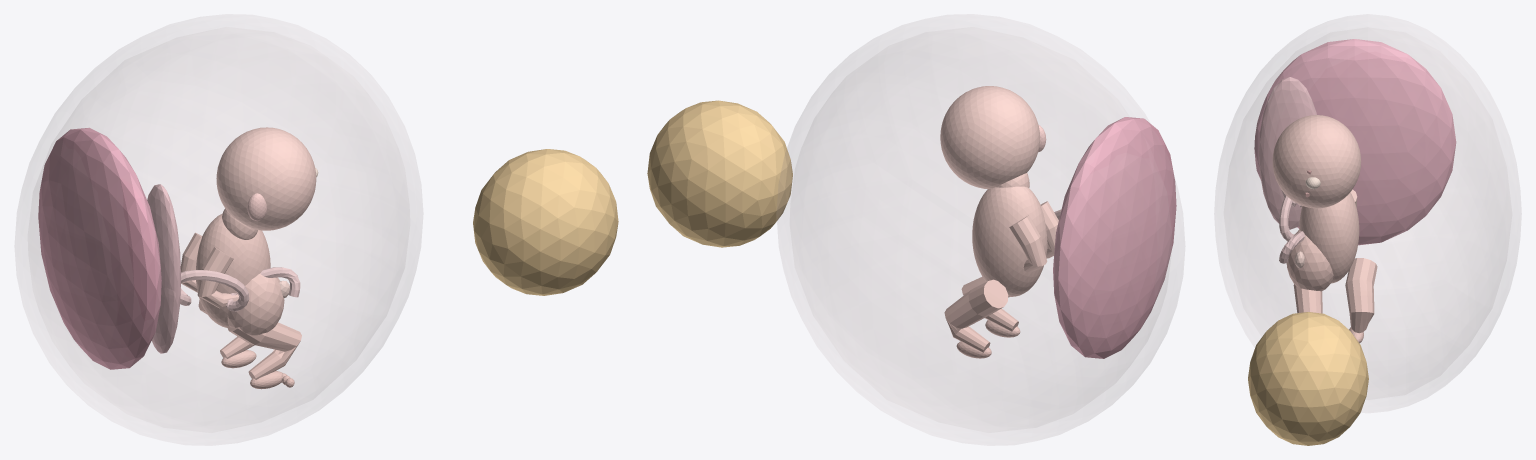
The model's file is hafta_23.glb.
3 views of the same model, side by side, from view 1: azimuth 30°, elevation 25°; view 2: azimuth 150°, elevation 25°; view 3: azimuth 270°, elevation 25° (orthographic). The views are drawn at different scales.
Visible parts, largest first — view 1: Gebelik_kesesi_dis_zar_25, Plasenta_gelisen_doku_27, Meyve_Greyfurt_29, Bas_1, Plasenta_yumusak_yuzey_28, Gogus_govde_2, Gobel_ve_karin_3, Bacak_on_18, Gobek_kordonu_ogretici_24, Kol_on_11, Kol_on_arka_9; view 2: Gebelik_kesesi_dis_zar_25, Plasenta_gelisen_doku_27, Meyve_Greyfurt_29, Bas_1, Gogus_govde_2, Bacak_arka_16, Kol_on_arka_9, Bacak_on_18, Kol_on_11; view 3: Gebelik_kesesi_dis_zar_25, Plasenta_gelisen_doku_27, Meyve_Greyfurt_29, Bas_1, Plasenta_yumusak_yuzey_28, Gogus_govde_2, Bacak_arka_16, Gobel_ve_karin_3, Gobek_kordonu_ogretici_24, Bacak_on_18.
Part boxes in pixels (x1,y1,x2,y2): Gebelik_kesesi_dis_zar_25: (15,14,422,445); Plasenta_gelisen_doku_27: (38,127,161,369); Meyve_Greyfurt_29: (473,149,618,295); Bas_1: (216,127,316,230); Plasenta_yumusak_yuzey_28: (147,184,181,353); Gogus_govde_2: (196,213,270,327); Gobel_ve_karin_3: (227,273,284,335); Bacak_on_18: (227,322,301,379); Gobek_kordonu_ogretici_24: (180,267,300,311); Kol_on_11: (197,247,238,308); Kol_on_arka_9: (180,232,202,292); Gebelik_kesesi_dis_zar_25: (777,14,1184,445); Plasenta_gelisen_doku_27: (1053,117,1176,358); Meyve_Greyfurt_29: (647,100,792,247); Bas_1: (940,86,1040,188); Gogus_govde_2: (972,186,1047,296); Bacak_arka_16: (944,279,1008,352); Kol_on_arka_9: (1009,215,1047,272); Bacak_on_18: (961,276,1018,331); Kol_on_11: (1041,201,1058,258); Gebelik_kesesi_dis_zar_25: (1214,14,1521,412); Plasenta_gelisen_doku_27: (1254,39,1456,245); Meyve_Greyfurt_29: (1248,312,1368,445); Bas_1: (1272,115,1361,208); Plasenta_yumusak_yuzey_28: (1258,77,1316,229); Gogus_govde_2: (1299,192,1359,283); Bacak_arka_16: (1345,258,1377,333); Gobel_ve_karin_3: (1286,230,1333,291); Gobek_kordonu_ogretici_24: (1279,190,1304,263); Bacak_on_18: (1293,284,1322,313).
Size of the model in its own units: 11.42 by 8.1 by 6.2.
